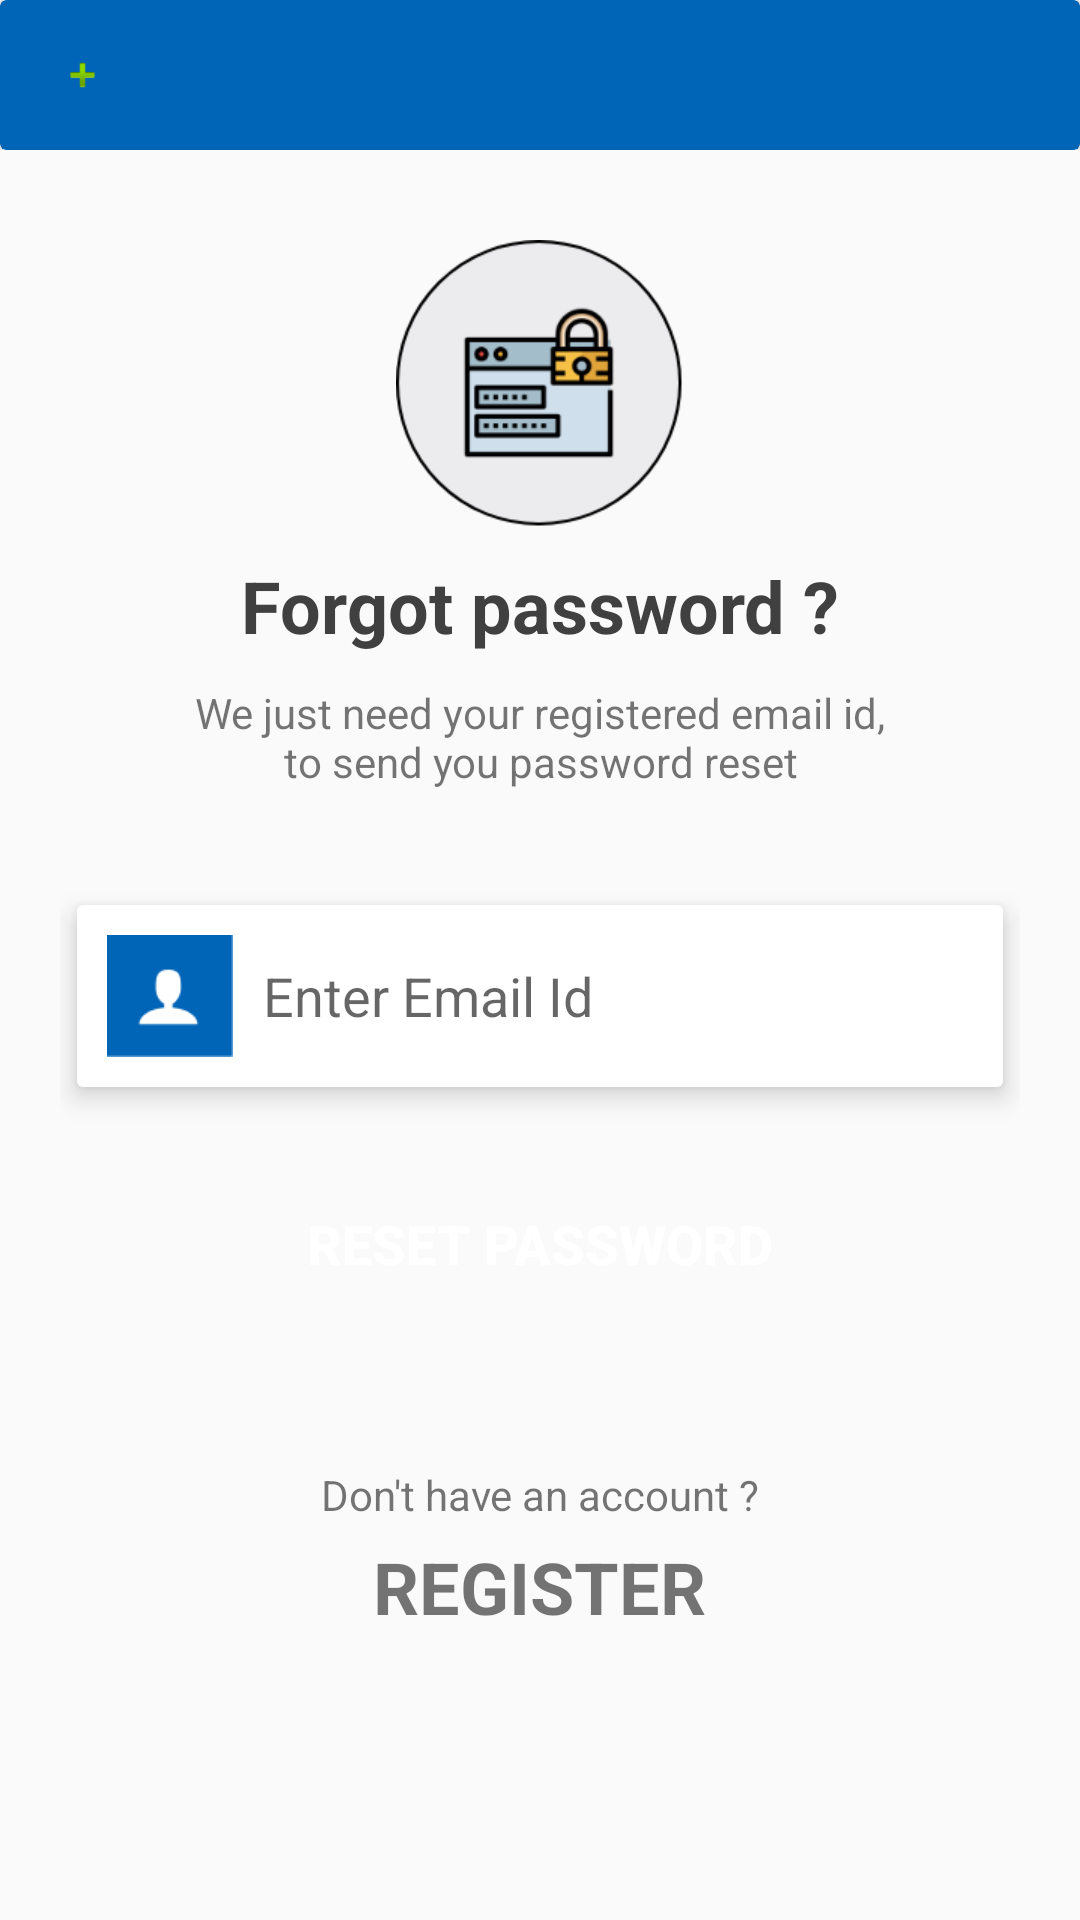

Point at icon controls on the screen. Image size 1080px×1920px, points as (x,y).
add: (82,75)
